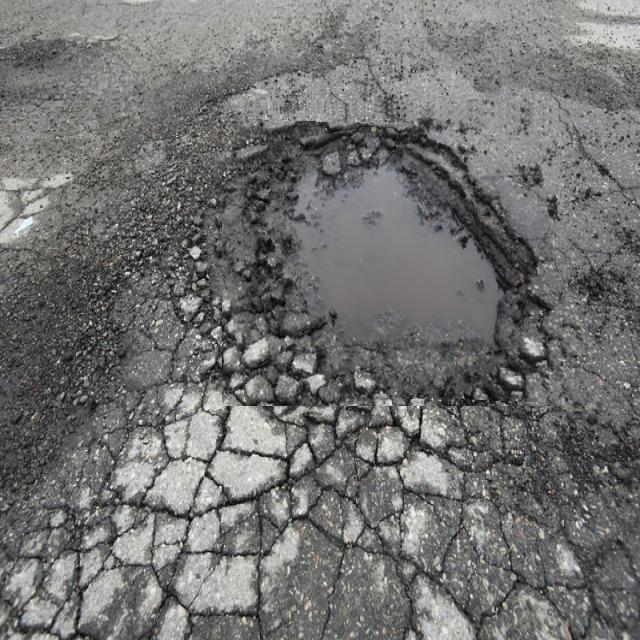Pothole: (222, 102, 574, 406)
